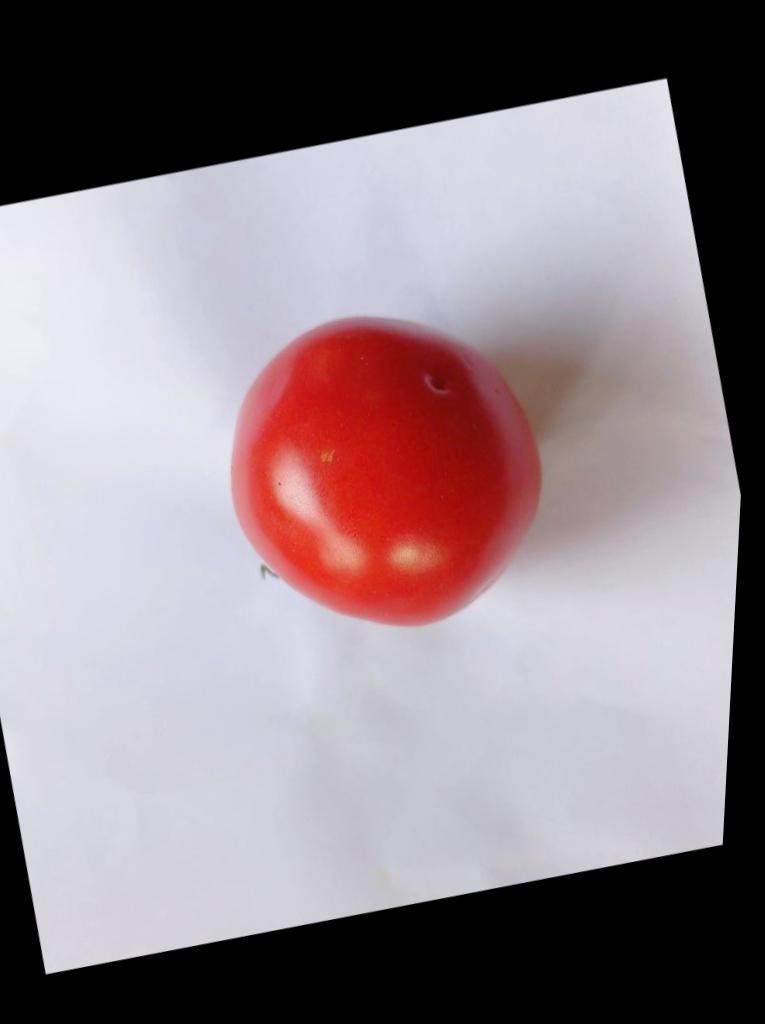tomato: (231, 317, 539, 625)
